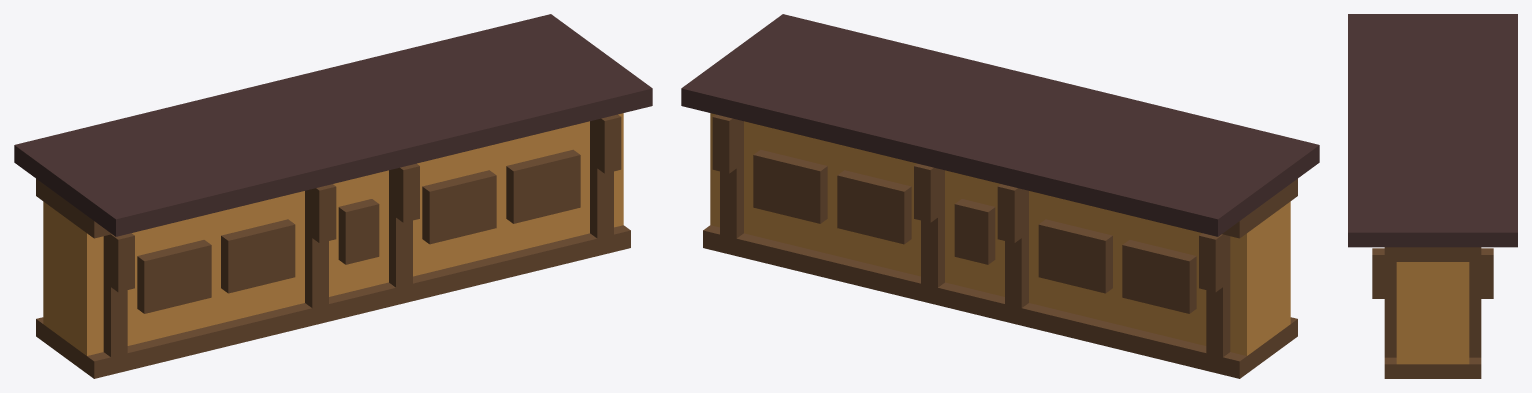
File: Bar.obj
The picture shows the model from 3 angles, left to right: view 1: azimuth 30°, elevation 25°; view 2: azimuth 150°, elevation 25°; view 3: azimuth 270°, elevation 25°; orthographic projection. The views are drawn at different scales.
Bounding box in the file's own units: 32 × 10 × 10.5.
1 material, 1 textured.
